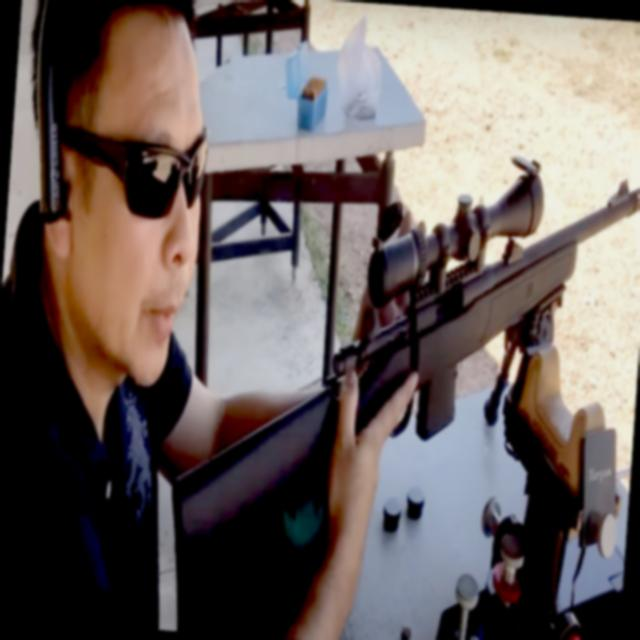rifle: (158, 122, 640, 640)
